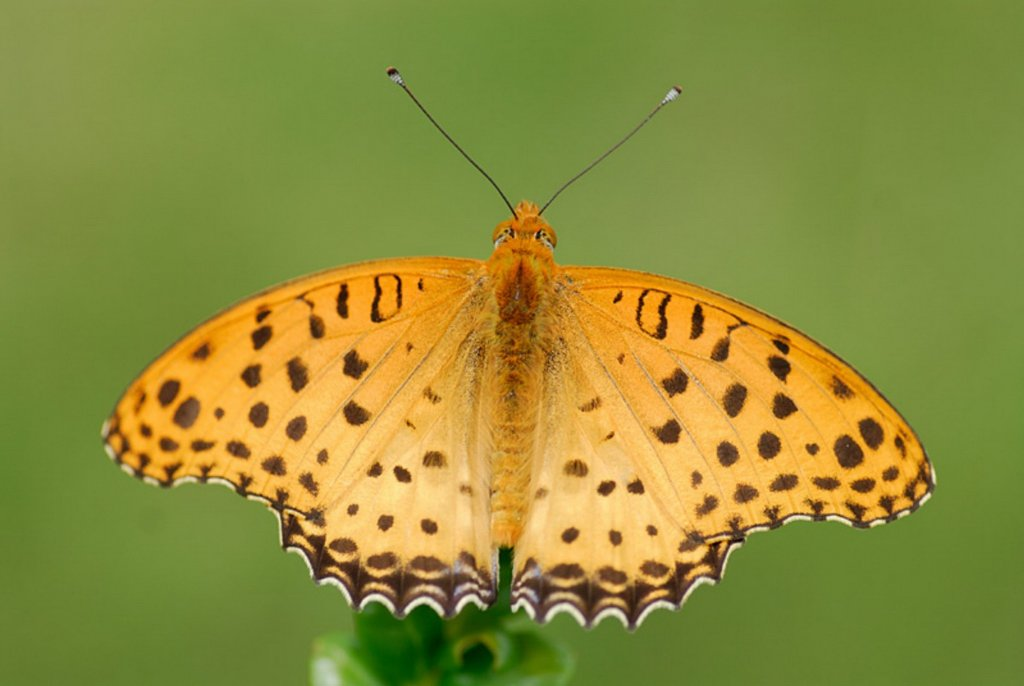Argyreus hyperbius: (92, 48, 939, 637)
butterfly: (94, 50, 941, 639)
